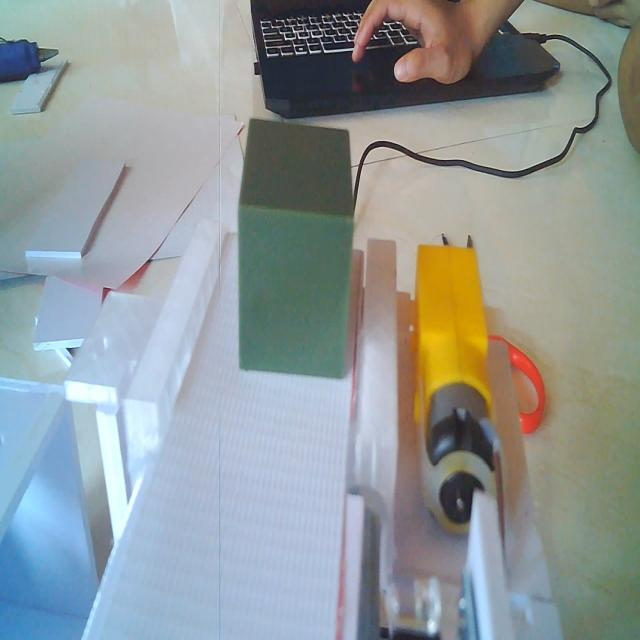green: (235, 109, 358, 389)
